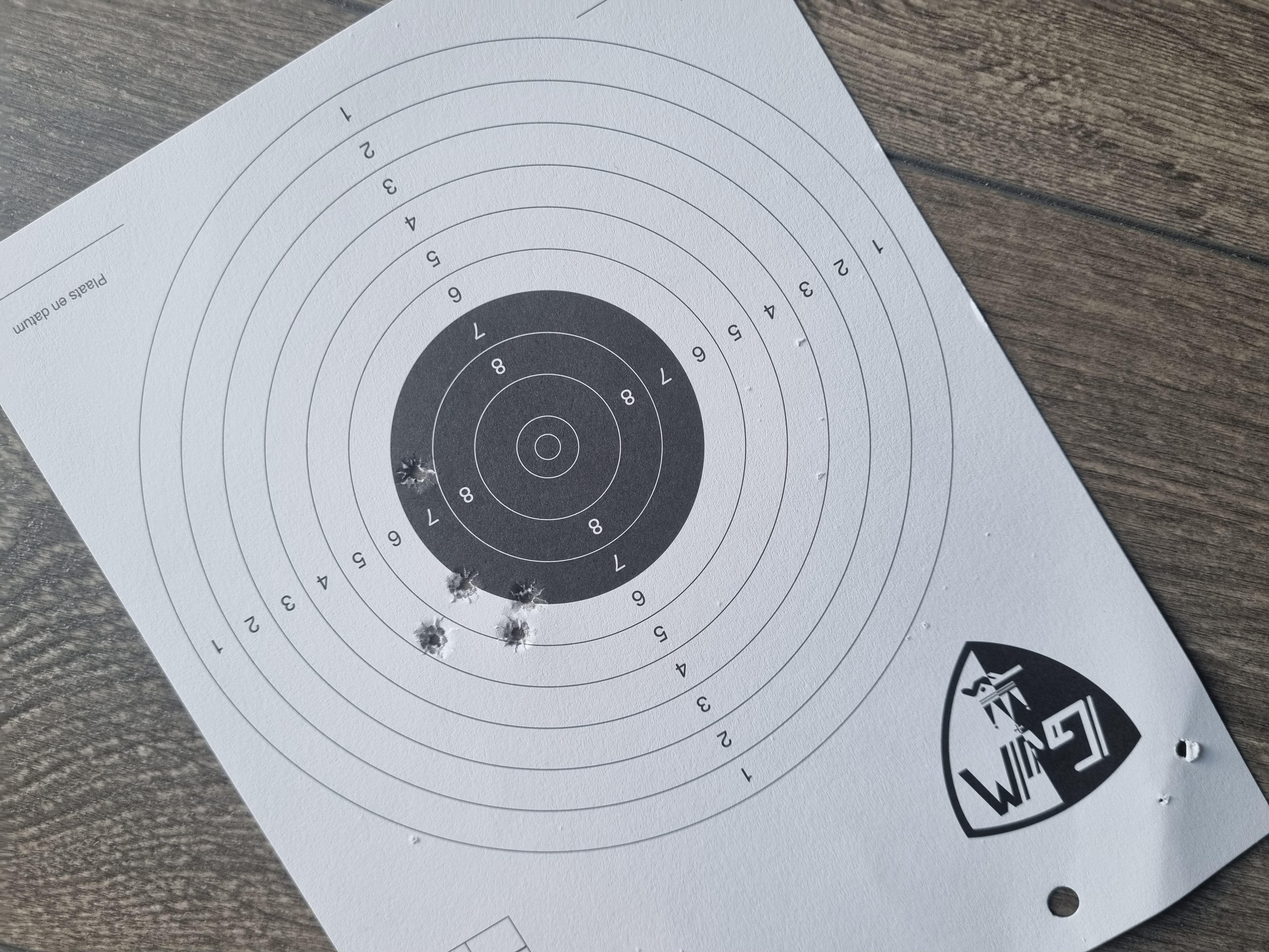hole: (614, 297, 663, 327), (452, 382, 498, 409), (464, 336, 511, 360), (396, 314, 444, 336), (404, 374, 445, 398)
